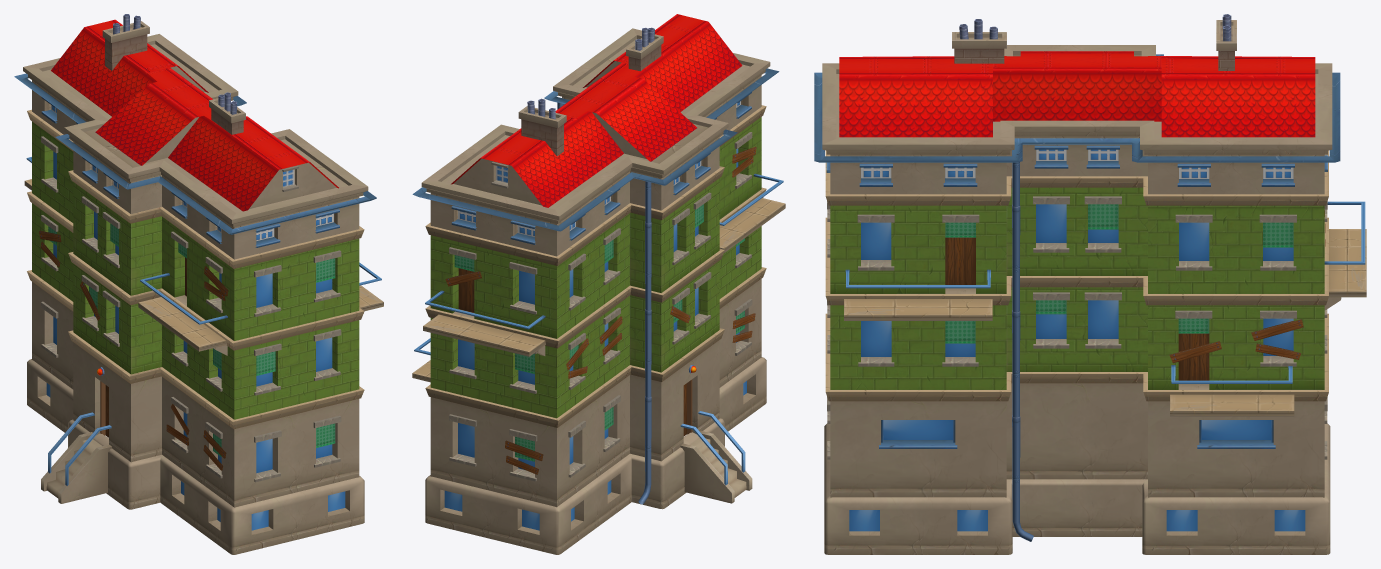
The model's file is Building_01_5_LOD2.fbx.
3 views of the same model, side by side, from view 1: azimuth 30°, elevation 25°; view 2: azimuth 150°, elevation 25°; view 3: azimuth 270°, elevation 25° (orthographic). The views are drawn at different scales.
Parts seen in each view (by area): view 1: polySurface4856; view 2: polySurface4856; view 3: polySurface4856.
Part boxes in pixels (left/top/right/bottom): polySurface4856: left=14, top=14, right=383, bottom=554; polySurface4856: left=412, top=14, right=785, bottom=554; polySurface4856: left=814, top=14, right=1366, bottom=554.
Size of the model in its own units: 949 by 1547 by 1565.
